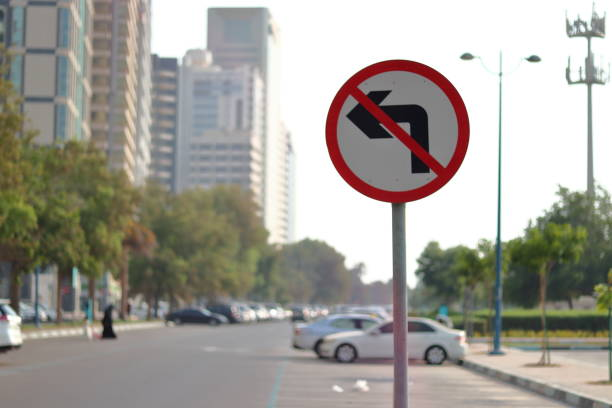otomobil: (306, 311, 473, 371)
sola_girilmez: (323, 57, 472, 200)
